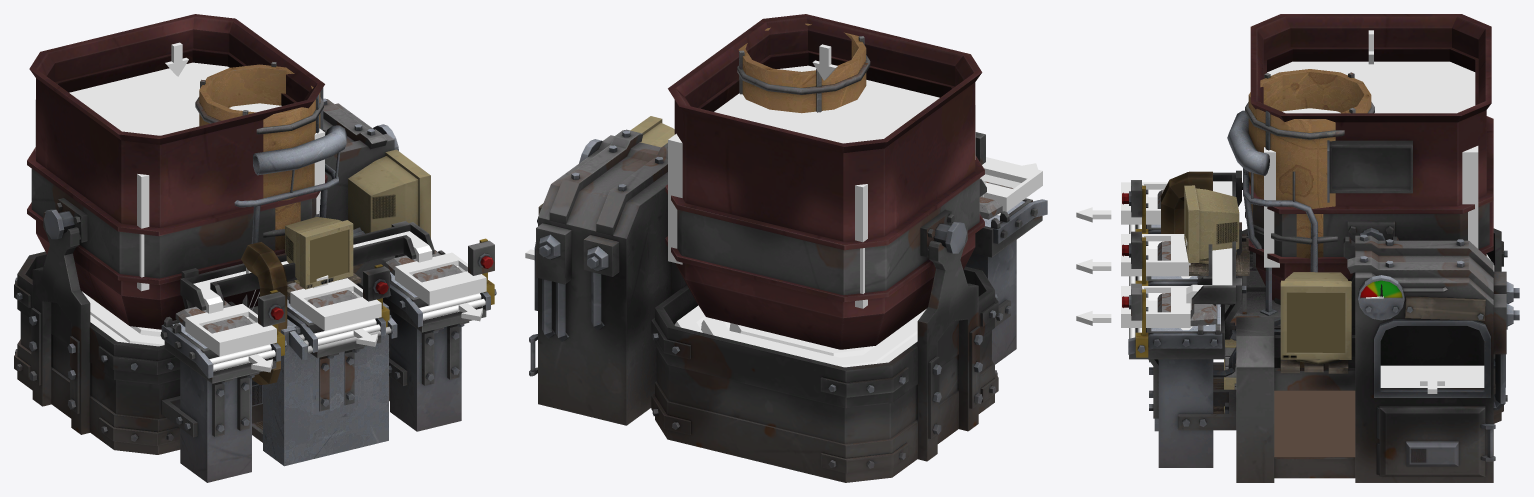
The model's file is CastingFurnace.glb.
3 views of the same model, side by side, from view 1: azimuth 30°, elevation 25°; view 2: azimuth 150°, elevation 25°; view 3: azimuth 270°, elevation 25° (orthographic). The views are drawn at different scales.
Parts seen in each view (by area): view 1: CastingFurnace (×2), CastingFurnaceTrigger, MoldToolEjectPoint (×3), CastingFurnace_Metal; view 2: CastingFurnace (×2), CastingFurnaceTrigger, MoldToolEjectPoint; view 3: CastingFurnace (×2), CastingFurnaceTrigger, MoldToolEjectPoint (×3), CoalInputTrigger, CastingFurnace_Metal, IronIngot.
Part boxes in pixels (left/top/right/bottom): CastingFurnace (×2): left=14, top=14, right=496, bottom=482; CastingFurnaceTrigger: left=35, top=62, right=324, bottom=291; MoldToolEjectPoint (×3): left=185, top=252, right=486, bottom=356; CastingFurnace_Metal: left=193, top=231, right=432, bottom=313; CastingFurnace (×2): left=529, top=14, right=1047, bottom=482; CastingFurnaceTrigger: left=668, top=65, right=975, bottom=308; MoldToolEjectPoint: left=980, top=157, right=1042, bottom=211; CastingFurnace (×2): left=1122, top=14, right=1519, bottom=482; CastingFurnaceTrigger: left=1264, top=61, right=1478, bottom=267; MoldToolEjectPoint (×3): left=1121, top=182, right=1190, bottom=327; CoalInputTrigger: left=1380, top=365, right=1484, bottom=387; CastingFurnace_Metal: left=1186, top=181, right=1232, bottom=310; IronIngot: left=1190, top=298, right=1217, bottom=326.
Size of what is drawn, in the model's own units: 3.58 by 3.13 by 3.62.
16 materials, 9 textured.
